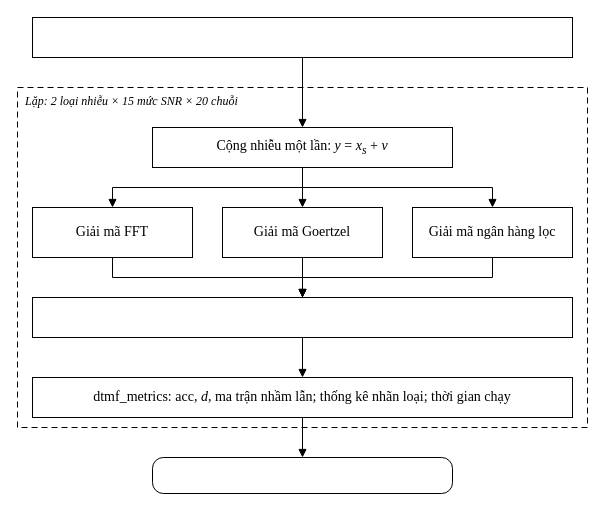
The diagram is 605 pixels wide and 511 high, and some of its shapes have lost their labels. Here are the shapes that lost their labels. From the top down, the centre of each, then its label:
At (x=302, y=37): "rng(2026): sinh 20 chuỗi × 12 phím, dựng tín hiệu sạch x s [ n ]".
At (x=302, y=317): "Xét lại tiêu chí chấp nhận khung từ E với ngưỡng ρ ∈ {0,70; 0,40; 0}, gộp khung".
At (x=302, y=475): "results/bench.mat → scripts/make_figures.m".
